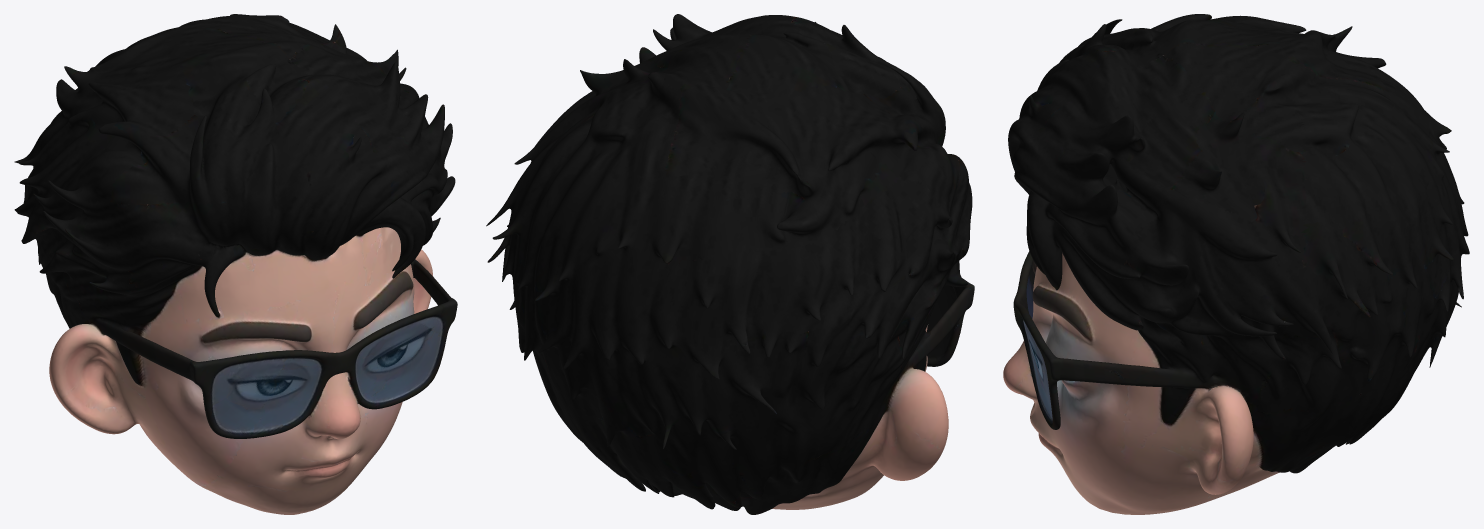
The model's file is antons-mascot-16W_yPFU.glb.
3 renders of one model, left to right at view 1: azimuth 30°, elevation 25°; view 2: azimuth 150°, elevation 25°; view 3: azimuth 270°, elevation 25°, orthographic. The views are drawn at different scales.
Parts seen in each view (by area): view 1: mesh_node; view 2: mesh_node; view 3: mesh_node.
Part boxes in pixels (x1,y1,x2,y2): mesh_node: (14,14,457,514); mesh_node: (486,14,974,514); mesh_node: (1003,14,1469,514).
Size of the model in its own units: 1.74 by 1.89 by 1.7.
1 material, 1 textured.
